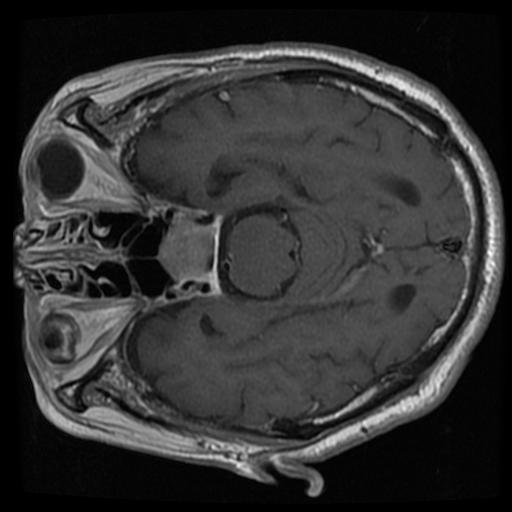pituitary tumour: (158, 211, 210, 284)
